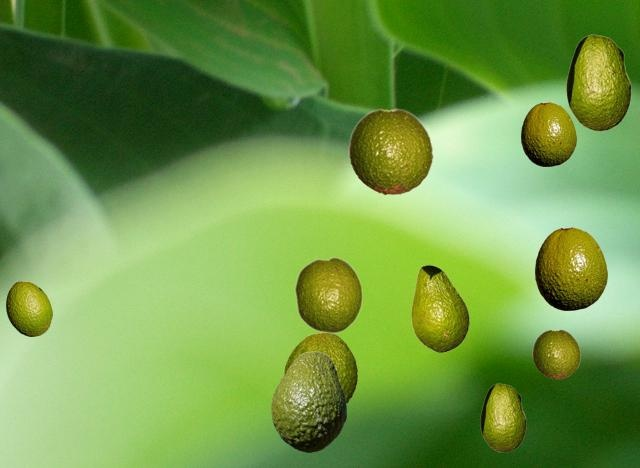avocado: (271, 351, 345, 451), (348, 108, 433, 194), (566, 34, 630, 130), (535, 227, 606, 309), (294, 256, 362, 333), (284, 332, 356, 403), (411, 265, 468, 351), (521, 102, 575, 165), (480, 383, 525, 451), (6, 281, 51, 335), (532, 329, 580, 378)
